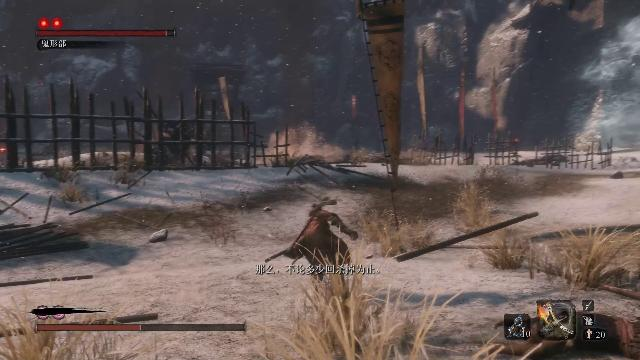sk: (262, 196, 363, 291)
